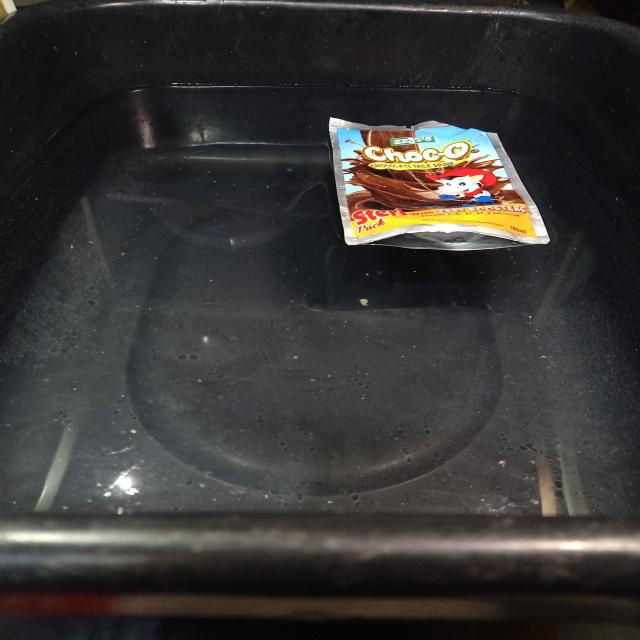Plastic Pouch: (329, 117, 549, 250)
